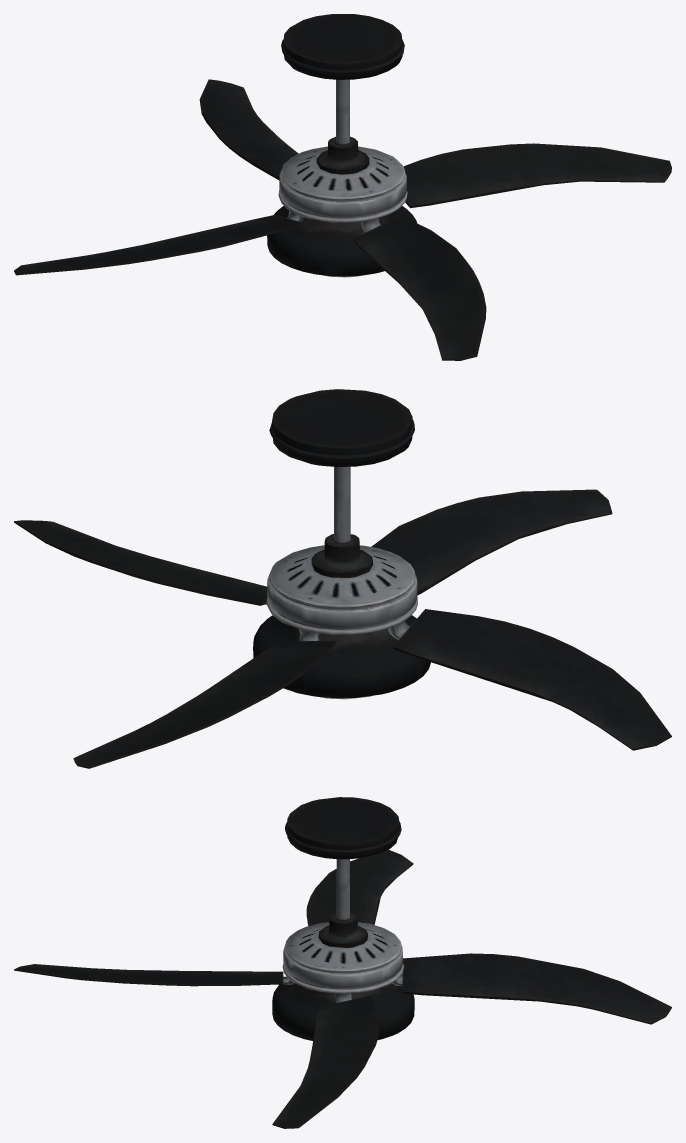
Rendered from ceiling_fan.glb.
The picture shows the model from 3 angles, top to bottom: view 1: azimuth 30°, elevation 25°; view 2: azimuth 150°, elevation 25°; view 3: azimuth 270°, elevation 25°; orthographic projection. The views are drawn at different scales.
Parts seen in each view (by area): view 1: ceiling_fan; view 2: ceiling_fan; view 3: ceiling_fan.
Part boxes in pixels (bbox=[...]): ceiling_fan: bbox=[14, 14, 671, 360]; ceiling_fan: bbox=[14, 389, 671, 768]; ceiling_fan: bbox=[14, 797, 671, 1128].
Size of the model in its own units: 1.46 by 0.5163 by 1.46.
Materials: 1 (1 with a texture image).
